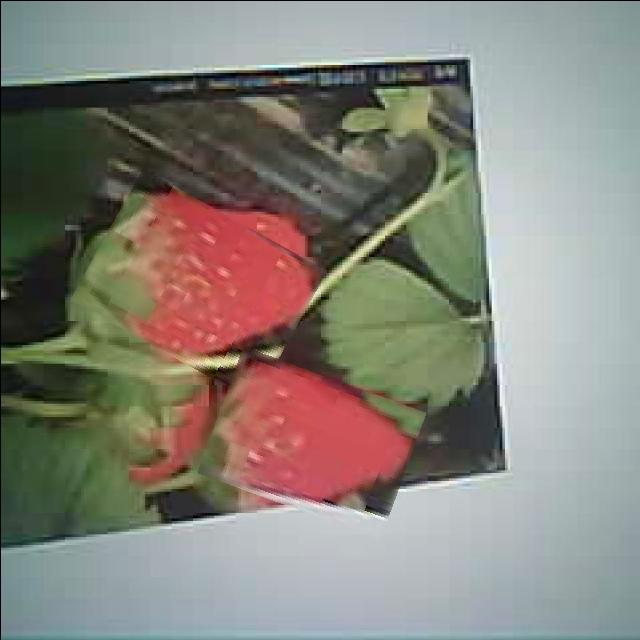strawberry: (82, 188, 316, 380), (205, 360, 418, 524)
